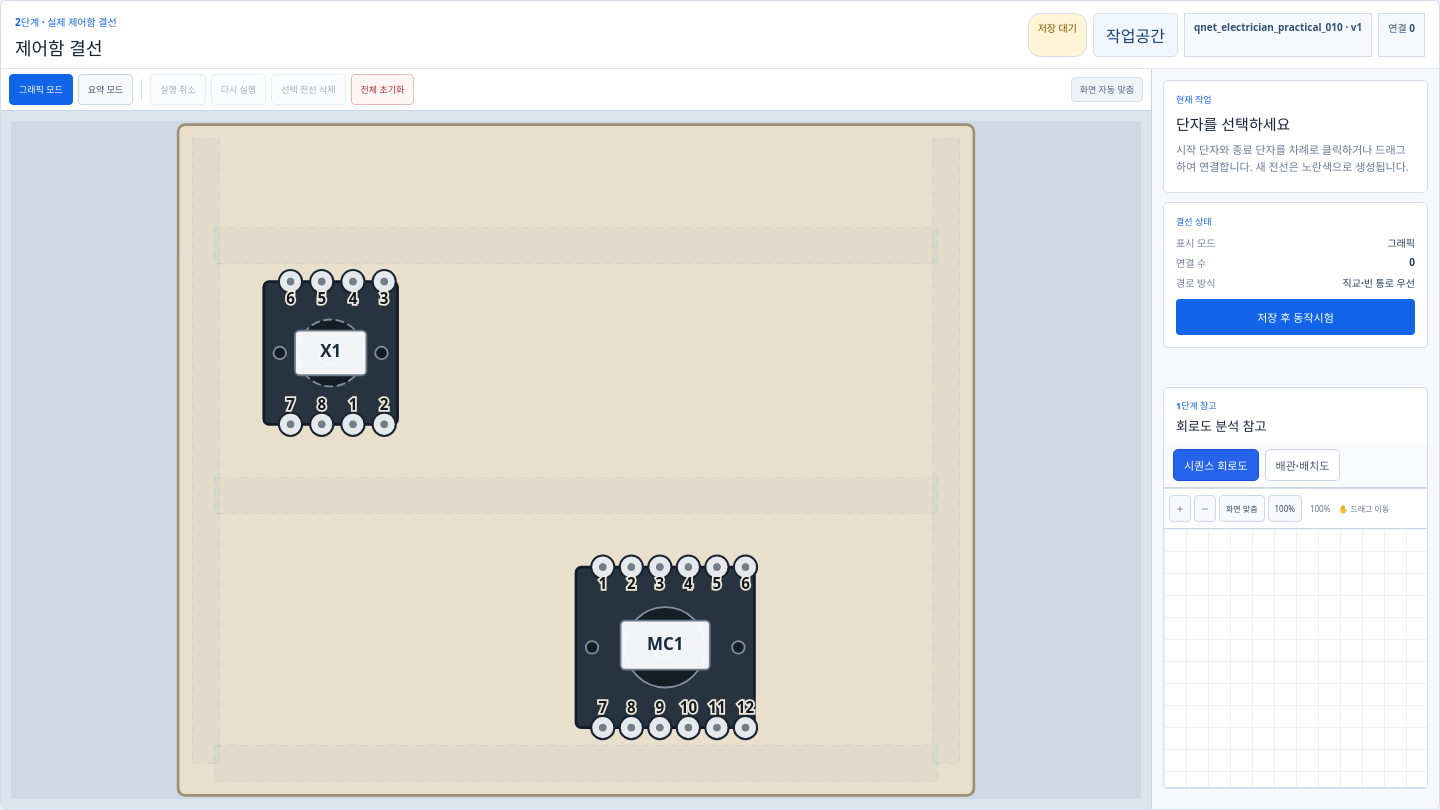
Test: workspace deletion requires confirmation (true) and never saves the deleted workspace again
The image size is (1440, 810).
Click the button "작업공간": (1135, 34) x1=1093 y1=12 x2=1178 y2=56
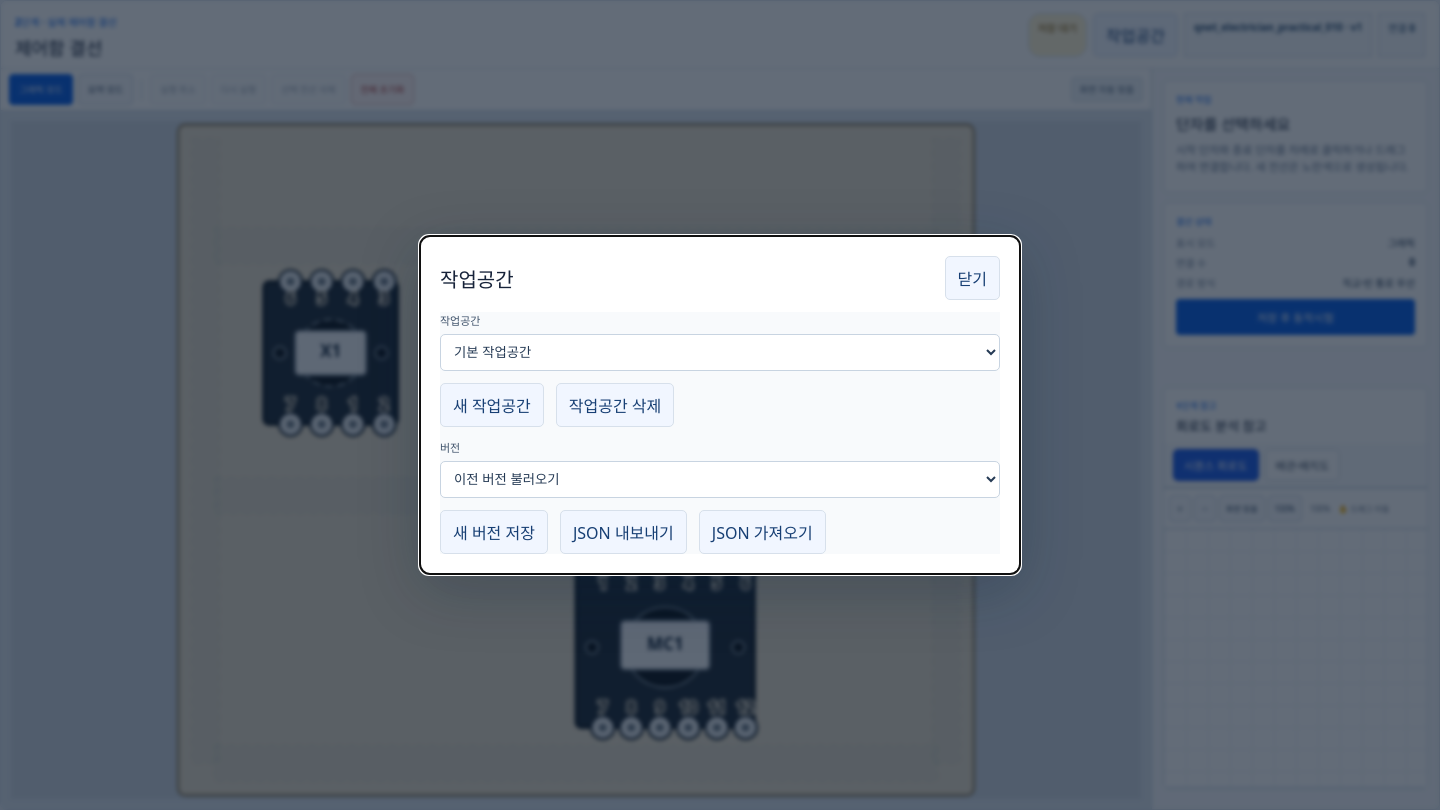
Click the button "작업공간 삭제": (615, 405) x1=556 y1=383 x2=674 y2=427
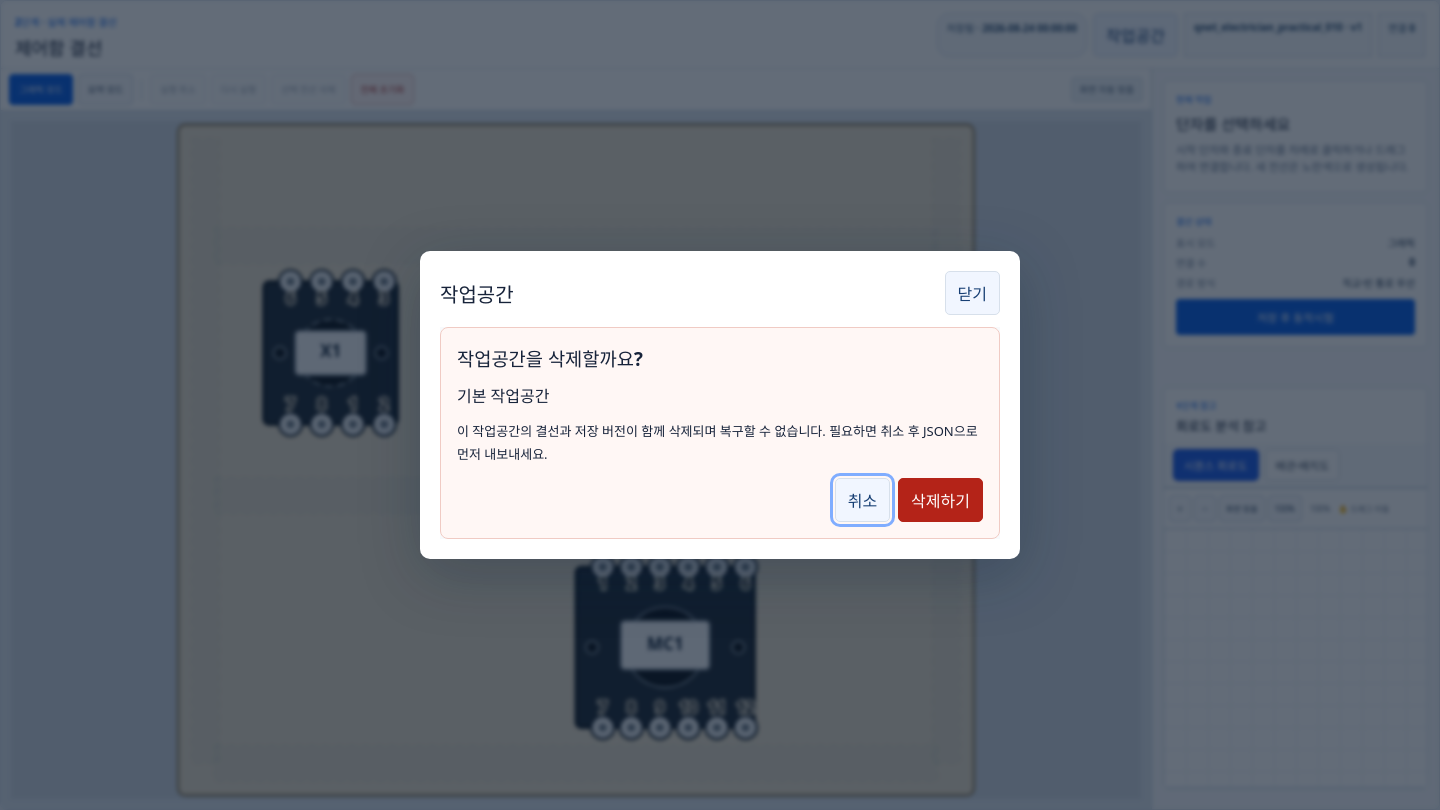
Expected: the heading "작업공간을 삭제할까요?" is shown, x1=457 y1=346 x2=643 y2=371
Click the button "삭제하기": (941, 500) x1=898 y1=478 x2=983 y2=522
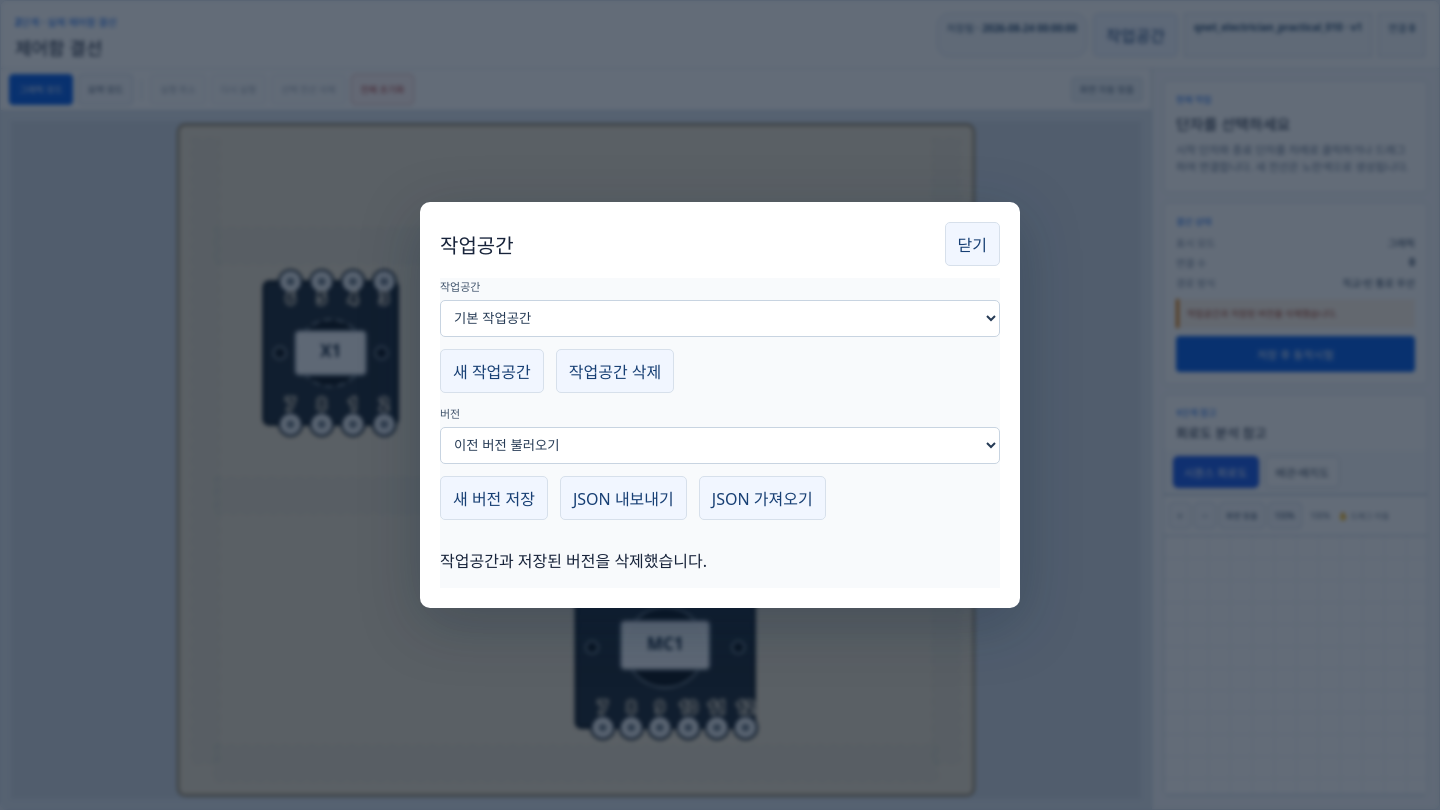
Expected: the dialog shows "작업공간과 저장된 버전을 삭제했습니다.", x1=440 y1=550 x2=707 y2=572
